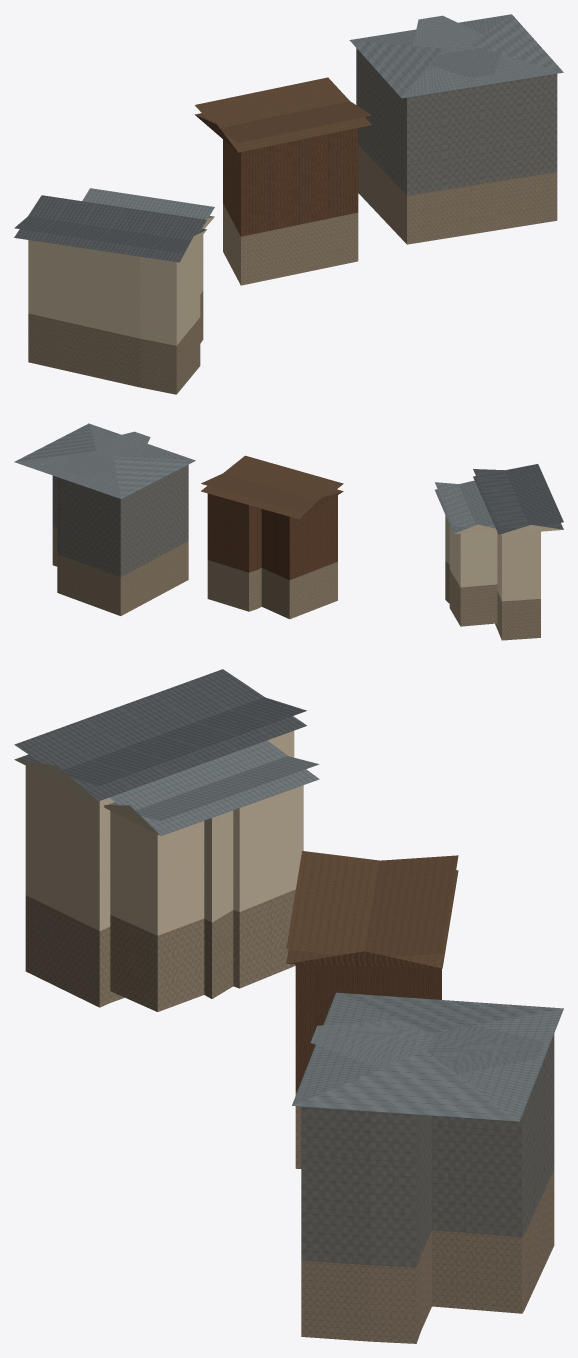
File: bld_c33_-40_448.gltf
3 renders of one model, top to bottom at view 1: azimuth 30°, elevation 25°; view 2: azimuth 150°, elevation 25°; view 3: azimuth 270°, elevation 25°, orthographic. The views are drawn at different scales.
Visible parts, largest first — view 1: bld_c33_-40_448; view 2: bld_c33_-40_448; view 3: bld_c33_-40_448.
Part boxes in pixels (x1,y1,x2,y2): bld_c33_-40_448: (14,14,563,394); bld_c33_-40_448: (14,423,563,640); bld_c33_-40_448: (14,669,563,1343).
Bounding box in the file's own units: 64.76 × 16.6 × 33.25.
Materials: 9 (9 with a texture image).
